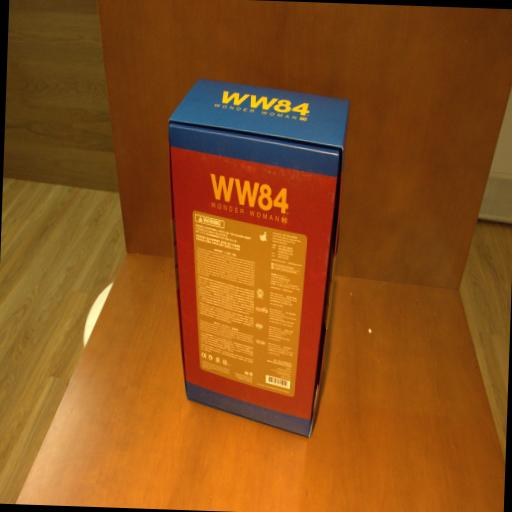WonderWoman: (156, 74, 350, 440)
